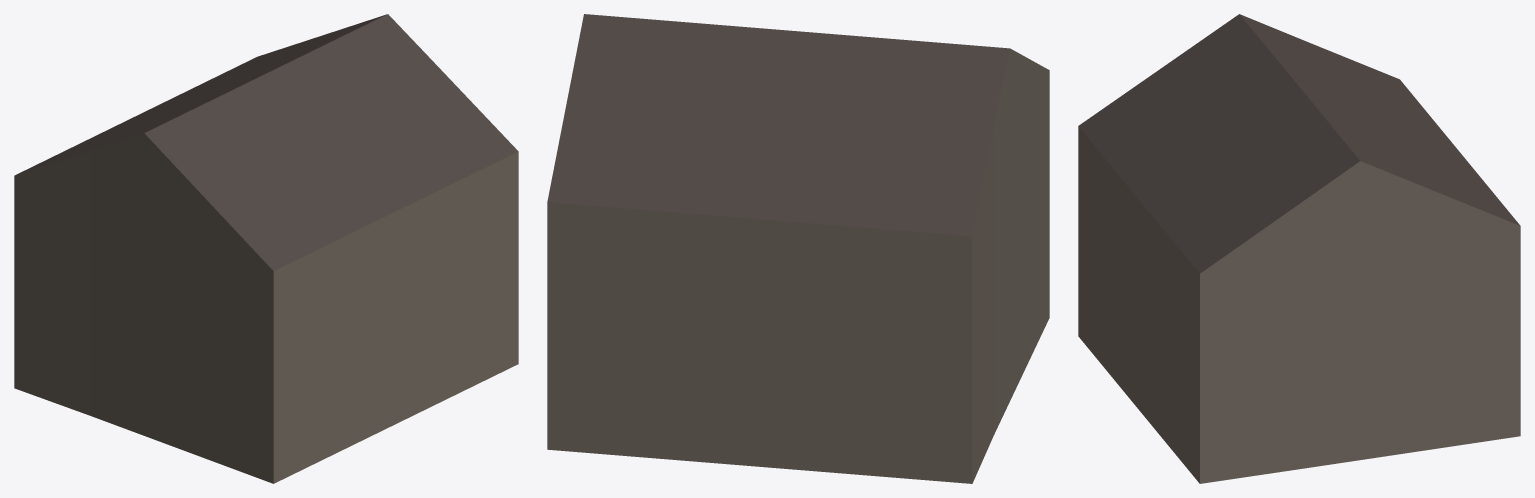
3 renders of one model, left to right at view 1: azimuth 30°, elevation 25°; view 2: azimuth 150°, elevation 25°; view 3: azimuth 270°, elevation 25°, orthographic. The views are drawn at different scales.
Parts seen in each view (by area): view 1: HP-w1198645087; view 2: HP-w1198645087; view 3: HP-w1198645087.
Boxes of the visible parts, x1=… form: HP-w1198645087: x1=14, y1=14, x2=518, y2=483; HP-w1198645087: x1=547, y1=14, x2=1049, y2=483; HP-w1198645087: x1=1078, y1=14, x2=1520, y2=483.
Size of the model in its own units: 11.9 by 8.54 by 11.45.
